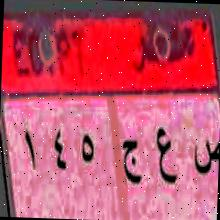1: (20, 122, 40, 176)
4: (51, 120, 68, 178)
5: (75, 130, 98, 168)
ain: (152, 122, 178, 194)
jeem: (120, 132, 142, 190)
saad: (188, 127, 220, 176)
